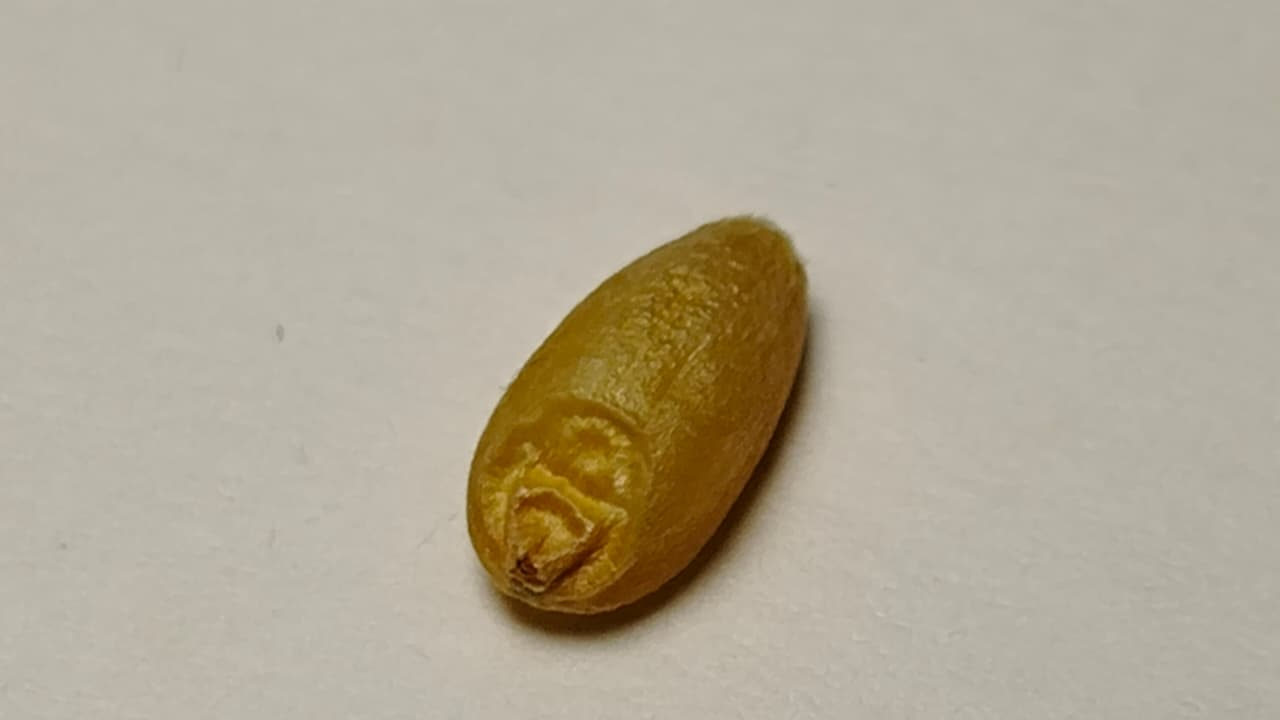healthy: (468, 216, 806, 612)
